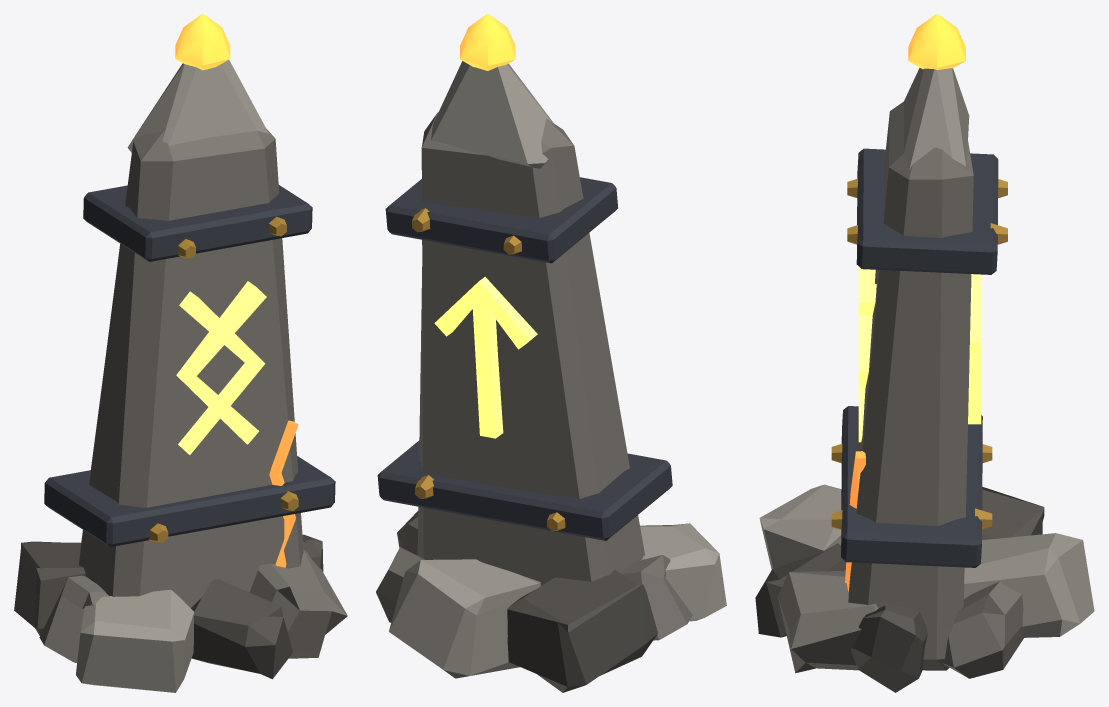
Rendered from forge_rune.glb.
3 views of the same model, side by side, from view 1: azimuth 30°, elevation 25°; view 2: azimuth 150°, elevation 25°; view 3: azimuth 270°, elevation 25° (orthographic). The views are drawn at different scales.
Parts seen in each view (by area): view 1: Slab, Band0, Rubble5, Band1, Rubble6, SlabTip, Rubble7, Rubble3, Rune0_1, Rune0_0, Rubble4, Ember (+3 smaller); view 2: Slab, Rubble3, Rubble2, Band0, Band1, SlabTip, Rubble5, Rune1_0, Rubble4, Rune1_1, Ember, Rubble1 (+3 smaller); view 3: Slab, Band1, Band0, Rubble2, Rubble7, Rubble1, SlabTip, Rubble0, Rubble5, Rubble6, Ember, Rubble3 (+7 smaller).
Part boxes in pixels (x1=…): Slab: x1=79, y1=129, x2=303, y2=607; Band0: x1=44, y1=456, x2=335, y2=546; Rubble5: x1=76, y1=589, x2=194, y2=692; Band1: x1=83, y1=185, x2=312, y2=261; Rubble6: x1=191, y1=579, x2=292, y2=679; SlabTip: x1=127, y1=60, x2=268, y2=152; Rubble7: x1=249, y1=549, x2=347, y2=658; Rubble3: x1=14, y1=541, x2=85, y2=635; Rune0_1: x1=176, y1=281, x2=266, y2=444; Rune0_0: x1=178, y1=291, x2=265, y2=454; Rubble4: x1=39, y1=575, x2=105, y2=662; Ember: x1=175, y1=14, x2=230, y2=70; Slab: x1=417, y1=112, x2=644, y2=585; Rubble3: x1=507, y1=569, x2=657, y2=692; Rubble2: x1=389, y1=559, x2=540, y2=678; Band0: x1=377, y1=440, x2=672, y2=540; Band1: x1=385, y1=177, x2=617, y2=263; SlabTip: x1=431, y1=61, x2=553, y2=168; Rubble5: x1=640, y1=523, x2=726, y2=621; Rune1_0: x1=472, y1=288, x2=503, y2=438; Rubble4: x1=620, y1=555, x2=692, y2=640; Rune1_1: x1=434, y1=276, x2=537, y2=349; Ember: x1=460, y1=14, x2=515, y2=70; Rubble1: x1=376, y1=547, x2=424, y2=622; Slab: x1=848, y1=101, x2=973, y2=670; Band1: x1=856, y1=148, x2=998, y2=274; Band0: x1=841, y1=406, x2=982, y2=567; Rubble2: x1=964, y1=533, x2=1094, y2=637; Rubble7: x1=777, y1=571, x2=878, y2=673; Rubble1: x1=943, y1=581, x2=1023, y2=678; SlabTip: x1=903, y1=68, x2=969, y2=169; Rubble0: x1=850, y1=602, x2=927, y2=692; Rubble5: x1=759, y1=484, x2=841, y2=569; Rubble6: x1=755, y1=543, x2=846, y2=637; Ember: x1=908, y1=14, x2=965, y2=69; Rubble3: x1=982, y1=487, x2=1044, y2=539.
Bounding box in the file's own units: 1.01 × 2.14 × 1.02.
